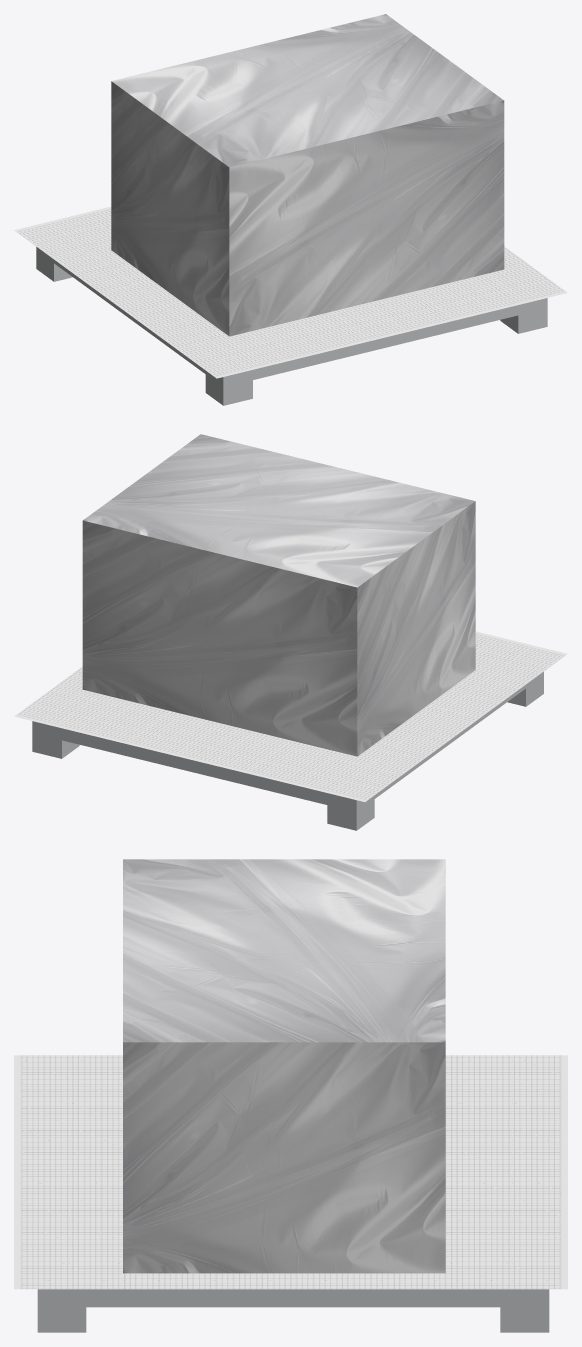
3 views of the same model, one above another, from view 1: azimuth 30°, elevation 25°; view 2: azimuth 150°, elevation 25°; view 3: azimuth 270°, elevation 25° (orthographic). The views are drawn at different scales.
Visible parts, largest first — view 1: transparent_wrapDetect__5_, Plane__14_, _pCube699__1_; view 2: transparent_wrapDetect__5_, Plane__14_, _pCube699__1_; view 3: transparent_wrapDetect__5_, Plane__14_, _pCube699__1_.
Part boxes in pixels (left/top/right/bottom): transparent_wrapDetect__5_: left=111, top=14, right=504, bottom=336; Plane__14_: left=14, top=206, right=567, bottom=378; _pCube699__1_: left=36, top=247, right=547, bottom=405; transparent_wrapDetect__5_: left=82, top=434, right=475, bottom=756; Plane__14_: left=14, top=631, right=567, bottom=801; _pCube699__1_: left=32, top=671, right=543, bottom=830; transparent_wrapDetect__5_: left=123, top=859, right=445, bottom=1273; Plane__14_: left=14, top=1055, right=567, bottom=1289; _pCube699__1_: left=37, top=1289, right=549, bottom=1332.
Bounding box in the file's own units: 127 × 71.62 × 127.
